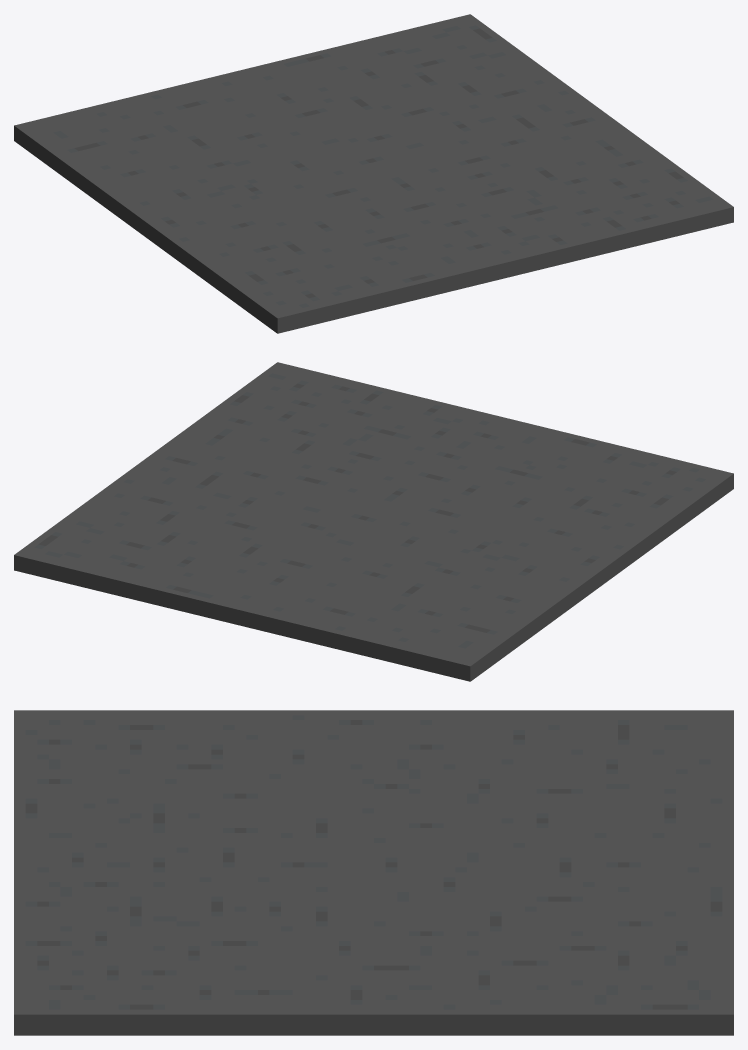
Rendered from Floor_Tile_Prop.obj.
3 views of the same model, one above another, from view 1: azimuth 30°, elevation 25°; view 2: azimuth 150°, elevation 25°; view 3: azimuth 270°, elevation 25° (orthographic). The views are drawn at different scales.
Bounding box in the file's own units: 6.2 × 0.2 × 6.2.
Materials: 1 (1 with a texture image).
